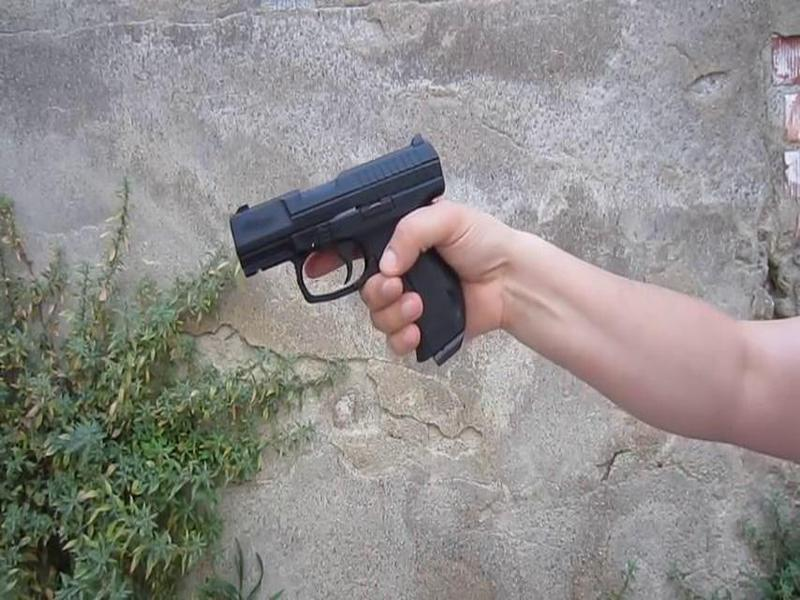Pistola: (219, 122, 493, 378)
